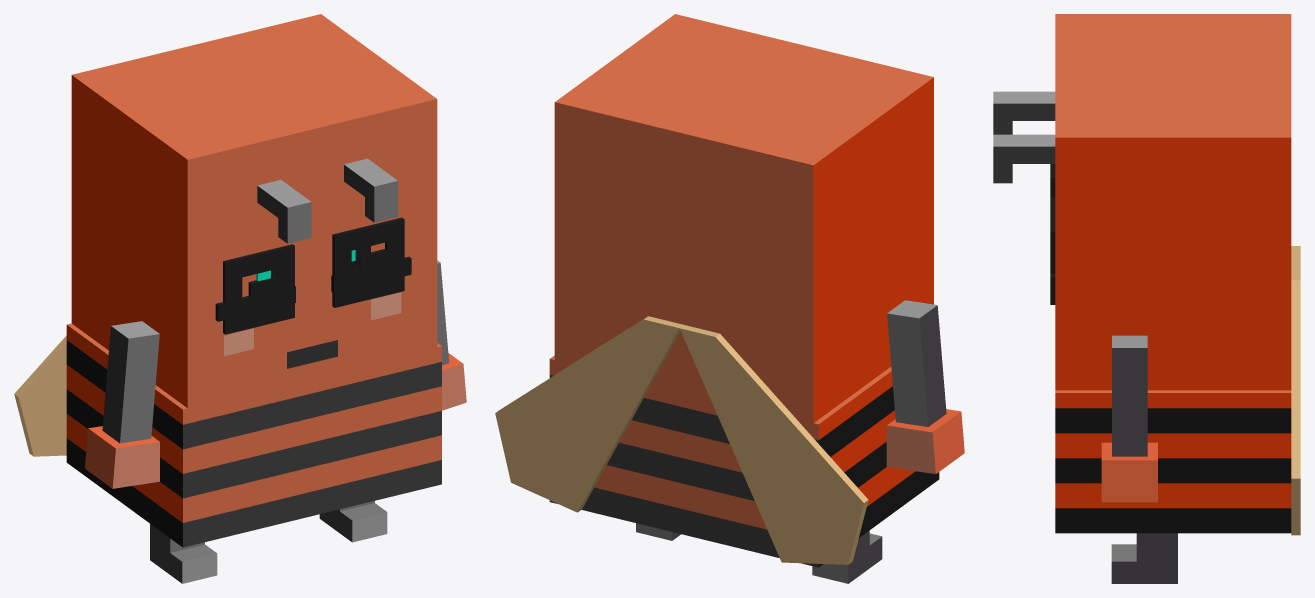
3 renders of one model, left to right at view 1: azimuth 30°, elevation 25°; view 2: azimuth 150°, elevation 25°; view 3: azimuth 270°, elevation 25°, orthographic. The views are drawn at different scales.
Visible parts, largest first — view 1: Ch_209_Head, Ch_209, Ch_209_Arm_L, Ch_209_Eye_03_R, Ch_209_Eye_03_L, Ch_209_Wing_R, Ch_209_Leg_L, Ch_209_Leg_R, Ch_209_Arm_R, Ch_209_Eye_02; view 2: Ch_209_Head, Ch_209, Ch_209_Wing_R, Ch_209_Wing_L, Ch_209_Arm_L, Ch_209_Leg_L; view 3: Ch_209_Head, Ch_209, Ch_209_Arm_R, Ch_209_Leg_R, Ch_209_Wing_L, Ch_209_Eye_03_R.
Boxes of the visible parts, bbox=[...] form: Ch_209_Head: bbox=[71, 14, 437, 408]; Ch_209: bbox=[66, 323, 441, 547]; Ch_209_Arm_L: bbox=[85, 321, 159, 488]; Ch_209_Eye_03_R: bbox=[332, 217, 404, 307]; Ch_209_Eye_03_L: bbox=[223, 244, 294, 334]; Ch_209_Wing_R: bbox=[14, 335, 66, 456]; Ch_209_Leg_L: bbox=[150, 524, 217, 583]; Ch_209_Leg_R: bbox=[319, 501, 387, 542]; Ch_209_Arm_R: bbox=[437, 260, 466, 410]; Ch_209_Eye_02: bbox=[215, 256, 411, 321]; Ch_209_Head: bbox=[554, 14, 933, 422]; Ch_209: bbox=[549, 355, 939, 567]; Ch_209_Wing_R: bbox=[679, 325, 868, 564]; Ch_209_Wing_L: bbox=[495, 316, 683, 512]; Ch_209_Arm_L: bbox=[886, 300, 964, 474]; Ch_209_Leg_L: bbox=[812, 530, 882, 583]; Ch_209_Head: bbox=[993, 14, 1291, 390]; Ch_209: bbox=[1055, 390, 1291, 533]; Ch_209_Arm_R: bbox=[1101, 335, 1157, 502]; Ch_209_Leg_R: bbox=[1111, 533, 1177, 583]; Ch_209_Wing_L: bbox=[1291, 263, 1300, 535]; Ch_209_Eye_03_R: bbox=[1050, 197, 1055, 304].
Size of the model in its own units: 6.65 by 8.05 by 4.9.
